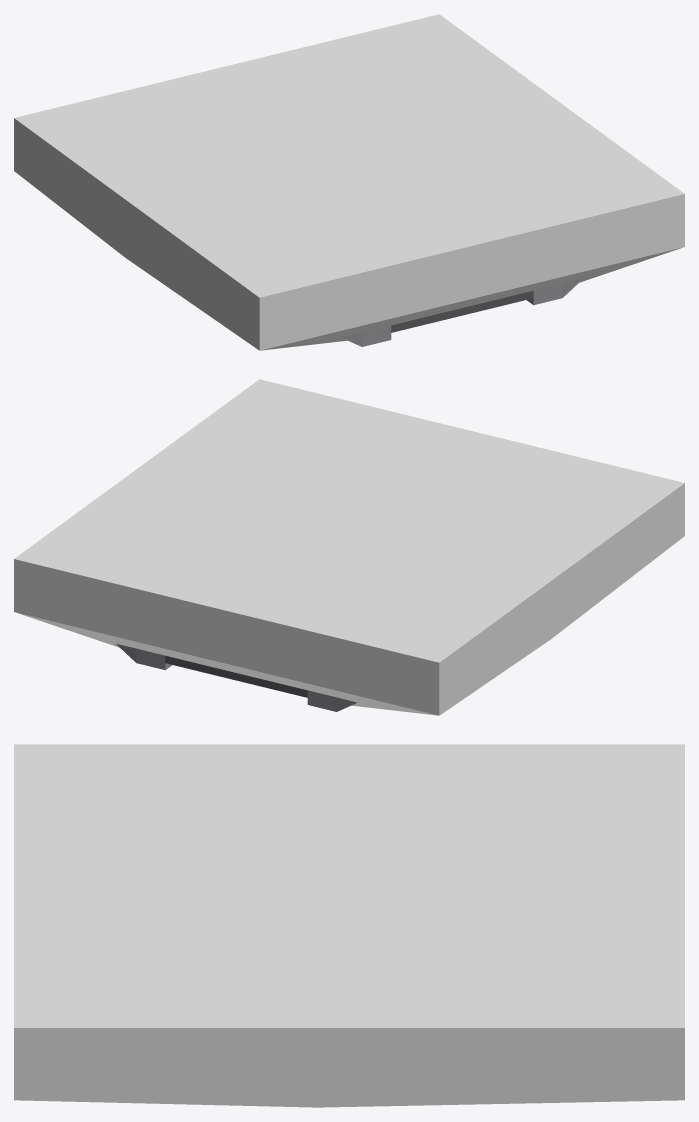
File: SM_Bld_Ceiling_02.fbx
3 views of the same model, one above another, from view 1: azimuth 30°, elevation 25°; view 2: azimuth 150°, elevation 25°; view 3: azimuth 270°, elevation 25° (orthographic). The views are drawn at different scales.
Visible parts, largest first — view 1: SM_Bld_Ceiling_02_ConvexHulls, SM_Bld_Ceiling_02_LOD0; view 2: SM_Bld_Ceiling_02_ConvexHulls, SM_Bld_Ceiling_02_LOD0; view 3: SM_Bld_Ceiling_02_ConvexHulls.
Boxes of the visible parts, bbox=[...] form: SM_Bld_Ceiling_02_ConvexHulls: bbox=[14, 14, 684, 350]; SM_Bld_Ceiling_02_LOD0: bbox=[341, 279, 582, 346]; SM_Bld_Ceiling_02_ConvexHulls: bbox=[14, 379, 684, 715]; SM_Bld_Ceiling_02_LOD0: bbox=[116, 644, 356, 711]; SM_Bld_Ceiling_02_ConvexHulls: bbox=[14, 744, 684, 1107].
Size of the model in its own units: 506 by 506 by 105.
Materials: 1 (1 with a texture image).
